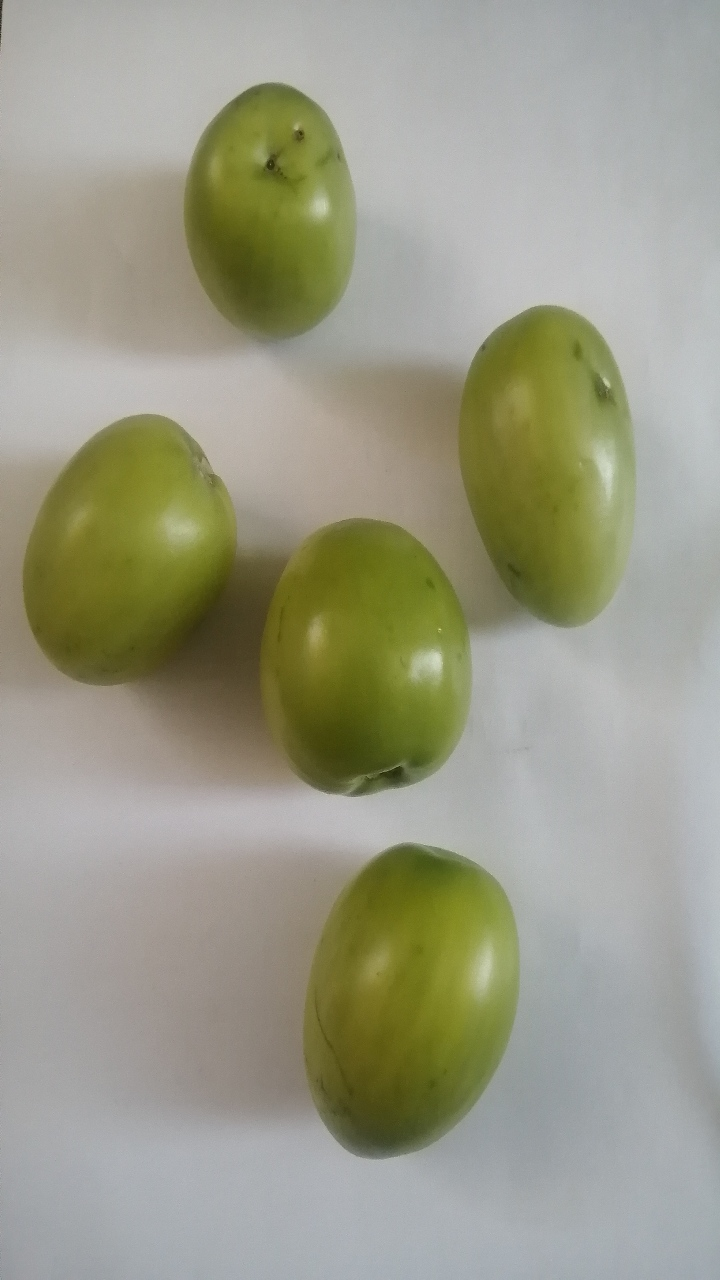tomateVerde: (277, 831, 541, 1177), (243, 499, 495, 828), (435, 279, 649, 646), (11, 400, 240, 719), (163, 62, 391, 357)
